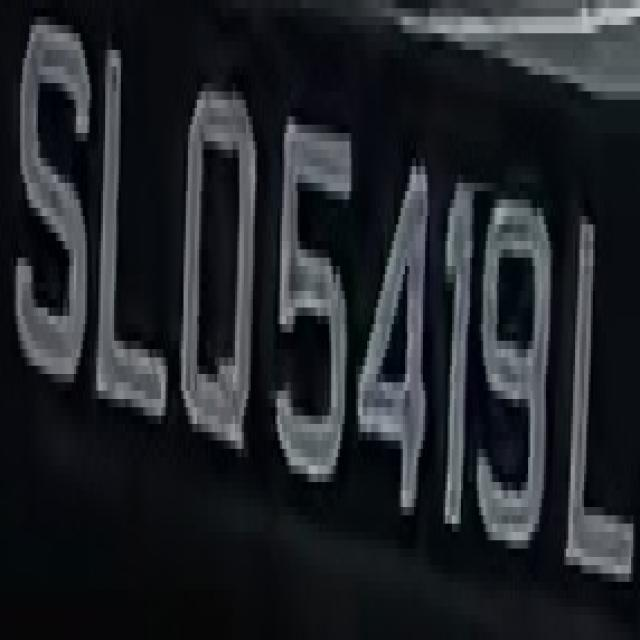1: (436, 116, 479, 548)
4: (354, 108, 436, 515)
5: (271, 67, 356, 507)
9: (477, 158, 557, 582)
L: (561, 166, 640, 615), (85, 33, 172, 432)
Q: (181, 50, 264, 490)
S: (11, 9, 87, 408)
